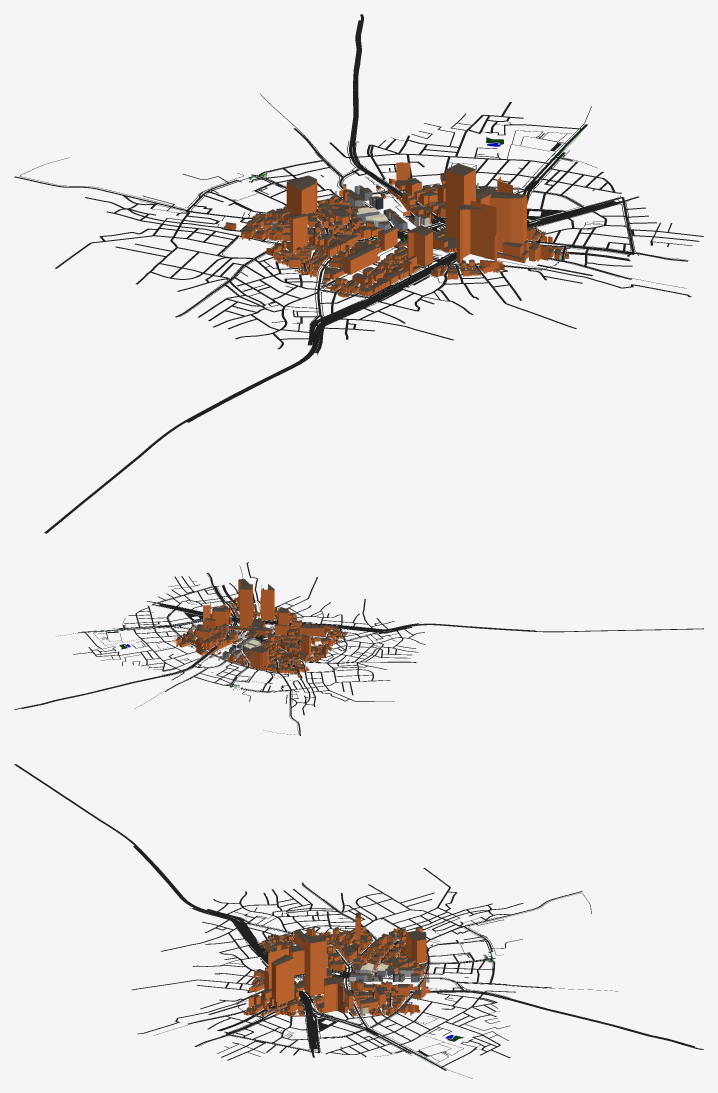
Rendered from Tokyo.obj.
The picture shows the model from 3 angles, top to bottom: view 1: azimuth 30°, elevation 25°; view 2: azimuth 150°, elevation 25°; view 3: azimuth 270°, elevation 25°; orthographic projection. The views are drawn at different scales.
Visible parts, largest first — view 1: map_17.osm_buildings, map_17.osm_roads_residential, map_17.osm_roads_unclassified, map_17.osm_paths_footway, map_17.osm_roads_tertiary, map_17.osm_roads_motorway, map_17.osm_roads_primary, map_17.osm_roads_trunk, map_17.osm_roads_service; view 2: map_17.osm_buildings, map_17.osm_roads_unclassified, map_17.osm_roads_residential, map_17.osm_paths_footway, map_17.osm_roads_tertiary, map_17.osm_roads_motorway, map_17.osm_roads_primary, map_17.osm_roads_trunk, map_17.osm_roads_service; view 3: map_17.osm_buildings, map_17.osm_roads_unclassified, map_17.osm_roads_residential, map_17.osm_paths_footway, map_17.osm_roads_tertiary, map_17.osm_roads_motorway, map_17.osm_roads_primary, map_17.osm_roads_trunk, map_17.osm_roads_service.
Boxes of the visible parts, x1,y1,x2,y2 form: map_17.osm_buildings: [223, 162, 568, 297]; map_17.osm_roads_residential: [99, 102, 703, 349]; map_17.osm_roads_unclassified: [55, 116, 633, 340]; map_17.osm_paths_footway: [20, 94, 686, 355]; map_17.osm_roads_tertiary: [14, 128, 634, 332]; map_17.osm_roads_motorway: [44, 200, 622, 533]; map_17.osm_roads_primary: [349, 14, 688, 261]; map_17.osm_roads_trunk: [307, 124, 587, 353]; map_17.osm_roads_service: [143, 113, 692, 330]; map_17.osm_buildings: [174, 579, 347, 677]; map_17.osm_roads_unclassified: [88, 585, 425, 707]; map_17.osm_roads_residential: [73, 562, 424, 703]; map_17.osm_paths_footway: [58, 565, 417, 734]; map_17.osm_roads_tertiary: [123, 577, 416, 735]; map_17.osm_roads_motorway: [157, 603, 703, 632]; map_17.osm_roads_primary: [14, 573, 237, 709]; map_17.osm_roads_trunk: [78, 617, 418, 632]; map_17.osm_roads_service: [100, 576, 398, 703]; map_17.osm_buildings: [243, 912, 430, 1016]; map_17.osm_roads_unclassified: [161, 867, 515, 1057]; map_17.osm_roads_residential: [137, 889, 510, 1067]; map_17.osm_paths_footway: [153, 884, 617, 1078]; map_17.osm_roads_tertiary: [132, 882, 582, 1053]; map_17.osm_roads_motorway: [14, 764, 318, 1051]; map_17.osm_roads_primary: [194, 990, 703, 1049]; map_17.osm_roads_trunk: [192, 908, 446, 1070]; map_17.osm_roads_service: [217, 907, 522, 1057].
Bounding box in the file's own units: 509 × 39.84 × 471.
